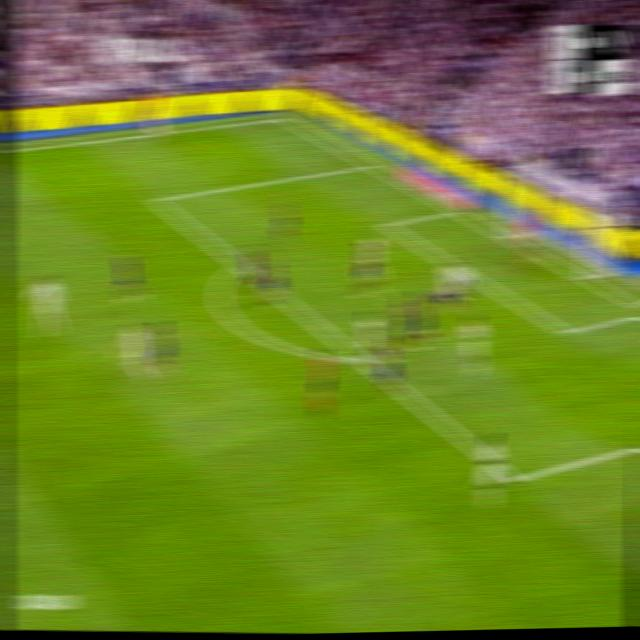bigarea_bottom_inner: (503, 464, 526, 494)
bigarea_top_inner: (148, 189, 165, 209)
bottom_arc_area_intersection: (351, 348, 370, 368)
smallarea_bottom_inner: (556, 320, 575, 343)
smallarea_top_inner: (379, 216, 395, 233)
top_arc_area_intersection: (231, 256, 245, 271)
